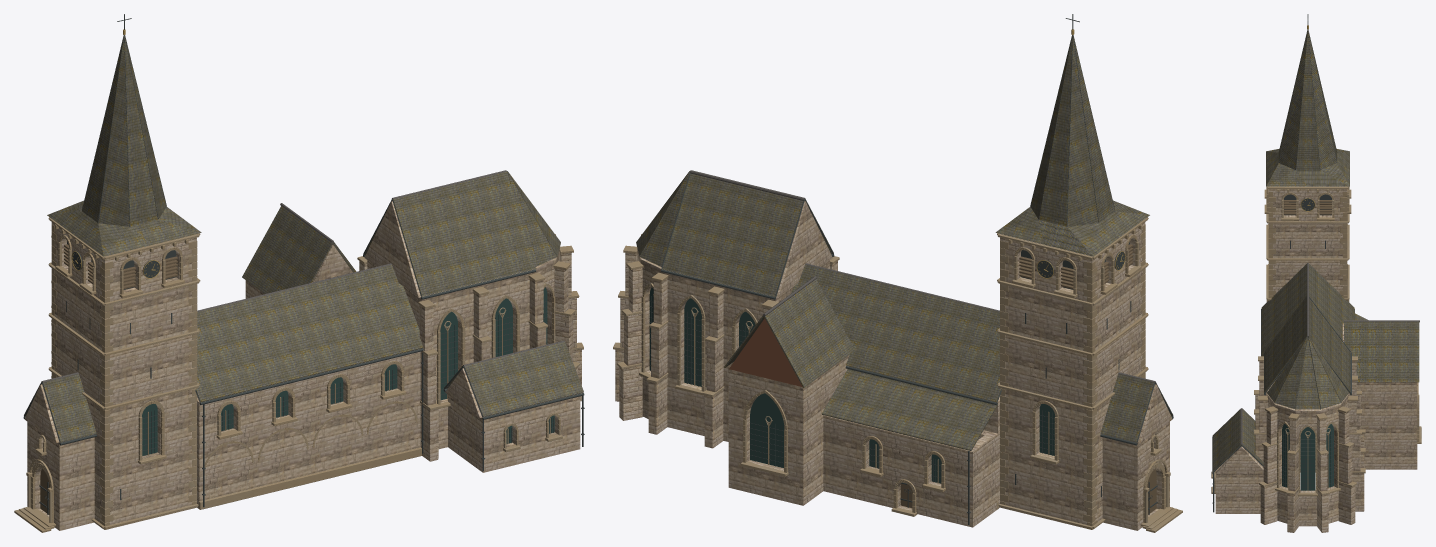
The model's file is church-lod0.fbx.
3 views of the same model, side by side, from view 1: azimuth 30°, elevation 25°; view 2: azimuth 150°, elevation 25°; view 3: azimuth 270°, elevation 25° (orthographic). The views are drawn at different scales.
Visible parts, largest first — view 1: ChurchBody_LOD0, Sacristy - added 1786_LOD0; view 2: ChurchBody_LOD0; view 3: ChurchBody_LOD0, Sacristy - added 1786_LOD0.
Part boxes in pixels (box(x1,y1,x2,y2)): ChurchBody_LOD0: box(14, 14, 584, 532); Sacristy - added 1786_LOD0: box(443, 340, 584, 472); ChurchBody_LOD0: box(613, 14, 1182, 532); ChurchBody_LOD0: box(1212, 14, 1421, 532); Sacristy - added 1786_LOD0: box(1211, 408, 1263, 513).
Bounding box in the file's own units: 4372 × 3733 × 1979.
